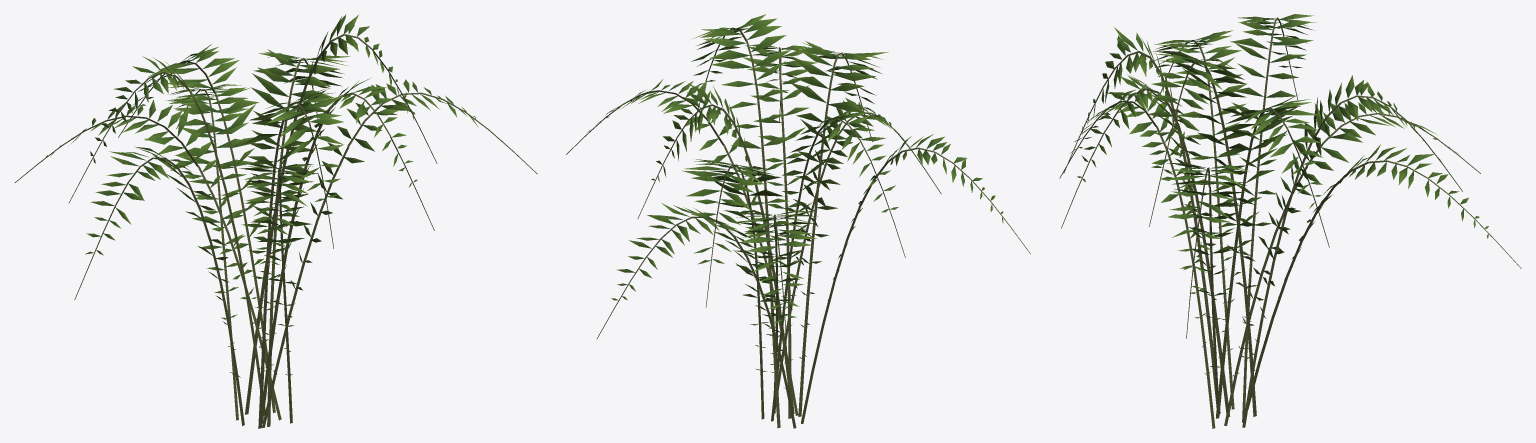
File: forest_fern_001_b_LOD1.gltf
3 views of the same model, side by side, from view 1: azimuth 30°, elevation 25°; view 2: azimuth 150°, elevation 25°; view 3: azimuth 270°, elevation 25° (orthographic). The views are drawn at different scales.
Parts seen in each view (by area): view 1: forest_fern_001_b_LOD1; view 2: forest_fern_001_b_LOD1; view 3: forest_fern_001_b_LOD1.
Part boxes in pixels (x1,y1,x2,y2): forest_fern_001_b_LOD1: (15, 14, 537, 428); forest_fern_001_b_LOD1: (566, 14, 1030, 428); forest_fern_001_b_LOD1: (1059, 14, 1521, 428).
Size of the model in its own units: 2.95 by 2.3 by 2.43.
1 material, 1 textured.
